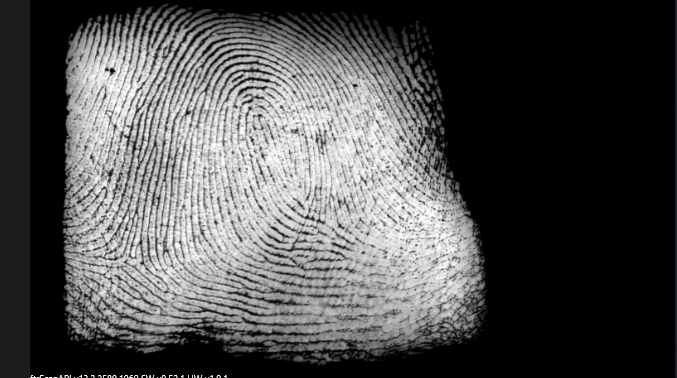nucelo: (246, 109, 270, 134)
verticilo: (112, 252, 135, 275), (298, 199, 315, 222)
